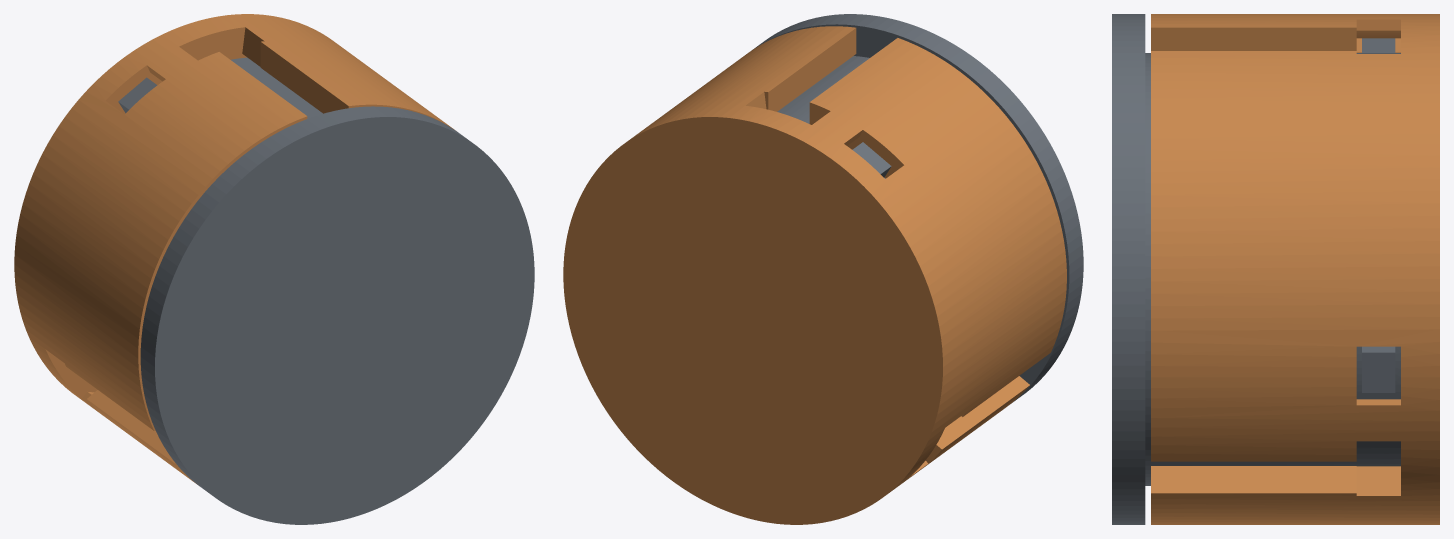
3 renders of one model, left to right at view 1: azimuth 30°, elevation 25°; view 2: azimuth 150°, elevation 25°; view 3: azimuth 270°, elevation 25°, orthographic. The views are drawn at different scales.
Visible parts, largest first — view 1: bouchon, douille; view 2: douille, bouchon; view 3: douille, bouchon.
Boxes of the visible parts, left/top/right/bottom form: bouchon: left=118, top=57, right=534, bottom=524; douille: left=14, top=14, right=454, bottom=484; douille: left=563, top=26, right=1066, bottom=524; bouchon: left=753, top=14, right=1083, bottom=403; douille: left=1151, top=14, right=1439, bottom=524; bouchon: left=1112, top=14, right=1400, bottom=524.
Bounding box in the file's own units: 46 × 46 × 29.5.
